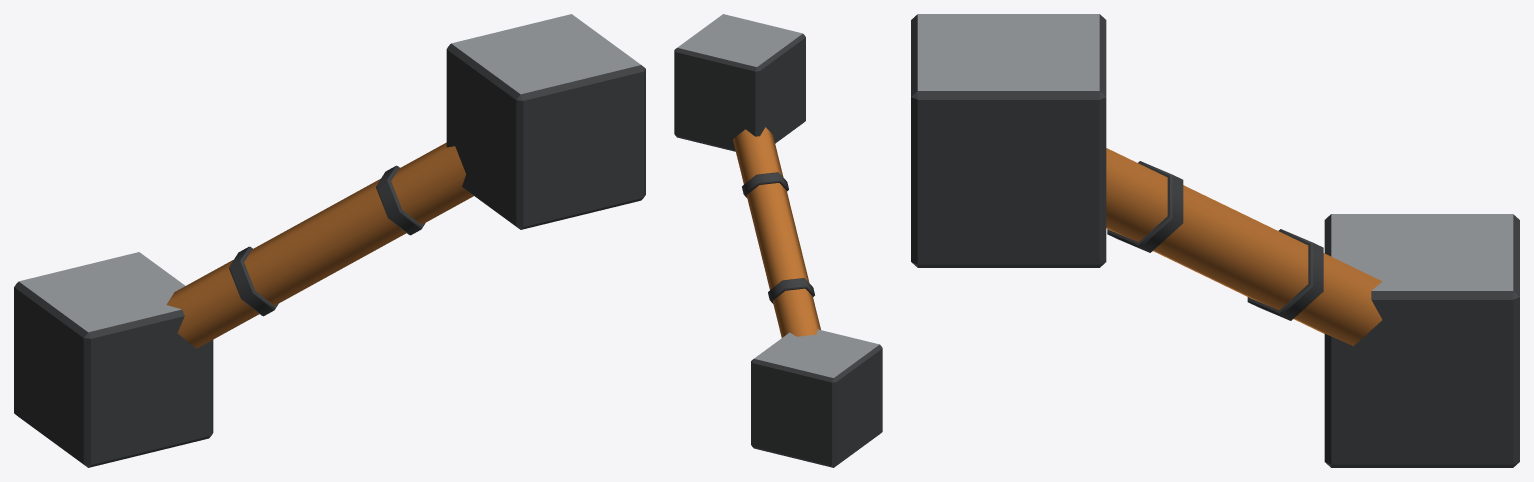
Rendered from R4C_STRUT_DIAG_3D_LOD1.fbx.
The picture shows the model from 3 angles, left to right: view 1: azimuth 30°, elevation 25°; view 2: azimuth 150°, elevation 25°; view 3: azimuth 270°, elevation 25°; orthographic projection. The views are drawn at different scales.
Visible parts, largest first — view 1: R4C_STRUT_DIAG_3D_LOD1; view 2: R4C_STRUT_DIAG_3D_LOD1; view 3: R4C_STRUT_DIAG_3D_LOD1.
Boxes of the visible parts, x1=… form: R4C_STRUT_DIAG_3D_LOD1: x1=14, y1=14, x2=645, y2=467; R4C_STRUT_DIAG_3D_LOD1: x1=674, y1=14, x2=882, y2=467; R4C_STRUT_DIAG_3D_LOD1: x1=911, y1=14, x2=1519, y2=467.
Size of the model in its own units: 1.62 by 1.62 by 1.62.
